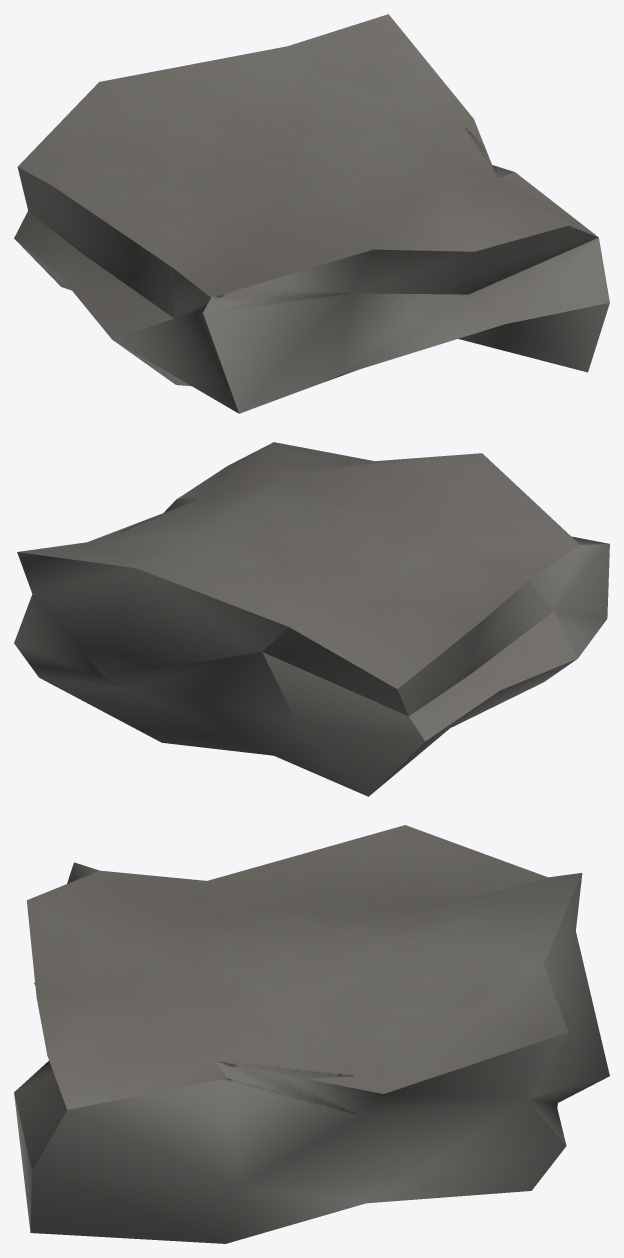
File: SM_Debris_Plaster_C.fbx
3 renders of one model, top to bottom at view 1: azimuth 30°, elevation 25°; view 2: azimuth 150°, elevation 25°; view 3: azimuth 270°, elevation 25°, orthographic. The views are drawn at different scales.
Parts seen in each view (by area): view 1: SM_Debris_Plaster_C; view 2: SM_Debris_Plaster_C; view 3: SM_Debris_Plaster_C.
Part boxes in pixels (x1,y1,x2,y2): SM_Debris_Plaster_C: (14, 14, 609, 413); SM_Debris_Plaster_C: (14, 442, 609, 796); SM_Debris_Plaster_C: (14, 825, 609, 1243).
Size of the model in its own units: 0.0966 by 0.0413 by 0.098.
1 material, 1 textured.
